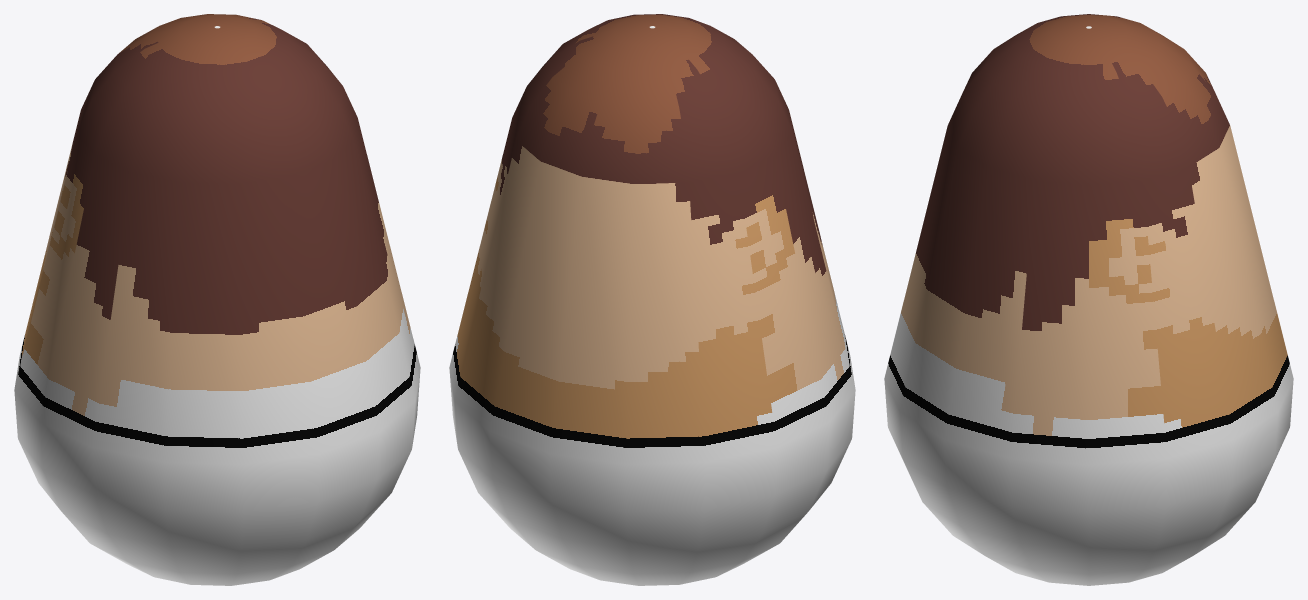
The model's file is weeble.glb.
3 views of the same model, side by side, from view 1: azimuth 30°, elevation 25°; view 2: azimuth 150°, elevation 25°; view 3: azimuth 270°, elevation 25° (orthographic).
Visible parts, largest first — view 1: weeble; view 2: weeble; view 3: weeble.
Boxes of the visible parts, box(x1,y1,x2,y2) form: weeble: box(14, 14, 420, 585); weeble: box(449, 14, 855, 585); weeble: box(884, 14, 1293, 585).
Bounding box in the file's own units: 2.73 × 3.97 × 2.73.
Materials: 1 (1 with a texture image).
